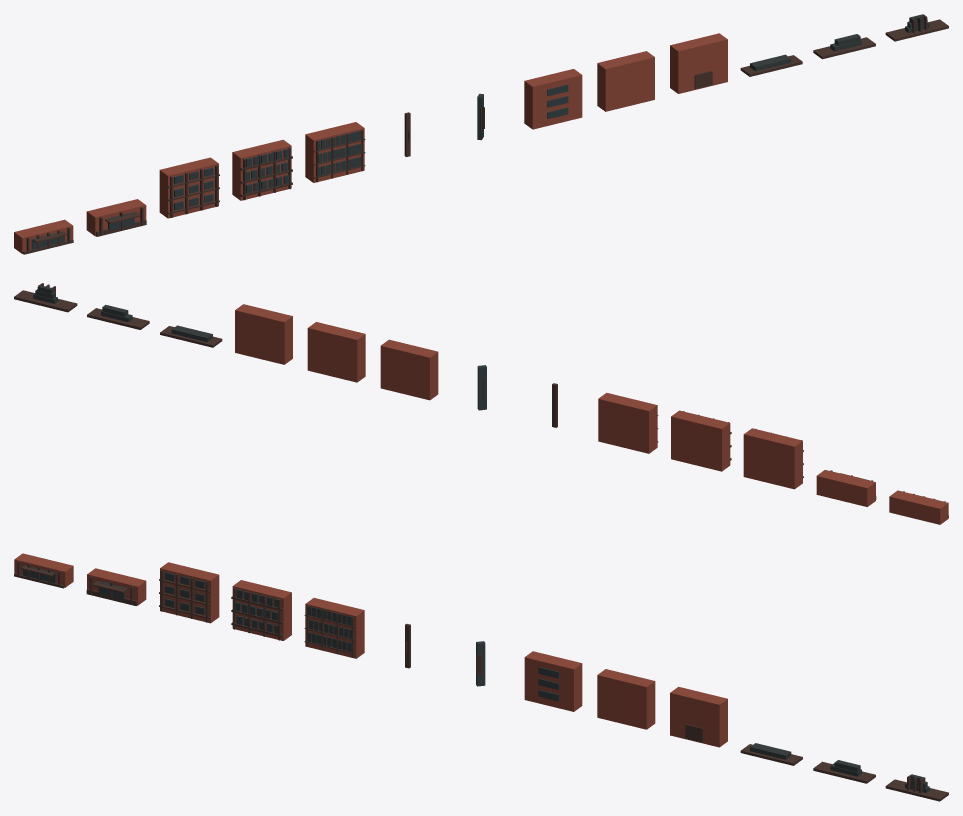
Rendered from fulton-brick-warehouse.glb.
3 views of the same model, one above another, from view 1: azimuth 30°, elevation 25°; view 2: azimuth 150°, elevation 25°; view 3: azimuth 330°, elevation 25° (orthographic).
Parts seen in each view (by area): view 1: middle-wall (×3), party-wall, rear-wall, exposed-wall, base-shell (×2), cornice; view 2: middle-wall (×3), base-shell (×2), party-wall, exposed-wall, rear-wall, cornice; view 3: middle-wall (×3), party-wall, rear-wall, exposed-wall, base-shell (×2).
Boxes of the visible parts, x1=… form: middle-wall (×3): x1=159, y1=122, x2=364, y2=218; party-wall: x1=597, y1=51, x2=654, y2=111; rear-wall: x1=670, y1=33, x2=727, y2=93; exposed-wall: x1=524, y1=69, x2=582, y2=129; base-shell (×2): x1=14, y1=199, x2=146, y2=253; cornice: x1=885, y1=19, x2=948, y2=41; middle-wall (×3): x1=598, y1=392, x2=802, y2=489; base-shell (×2): x1=816, y1=470, x2=948, y2=524; party-wall: x1=307, y1=322, x2=365, y2=382; exposed-wall: x1=380, y1=339, x2=438, y2=400; rear-wall: x1=235, y1=304, x2=292, y2=364; cornice: x1=14, y1=290, x2=77, y2=312; middle-wall (×3): x1=160, y1=562, x2=364, y2=658; party-wall: x1=597, y1=669, x2=655, y2=729; rear-wall: x1=670, y1=686, x2=727, y2=747; exposed-wall: x1=524, y1=651, x2=582, y2=711; base-shell (×2): x1=14, y1=553, x2=146, y2=605.
Bounding box in the file's own units: 63.61 × 2.8 × 1.6.
